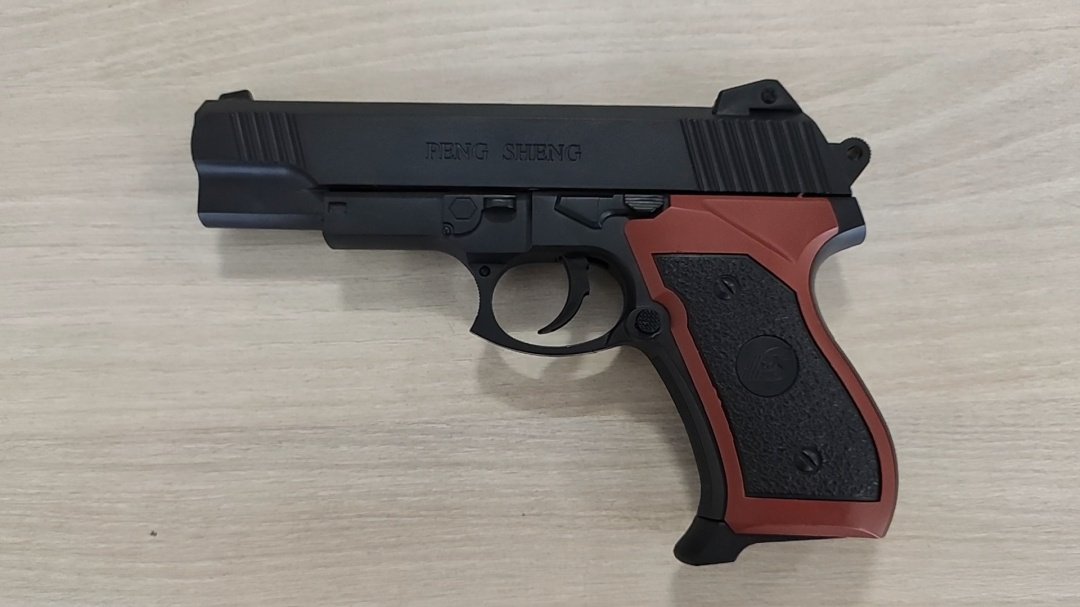gun: (449, 202, 575, 332)
